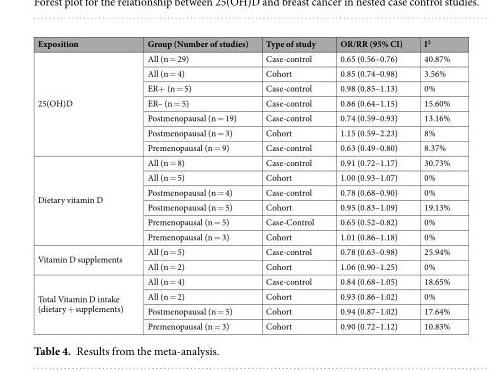table: (36, 36, 449, 331)
table column: (134, 36, 256, 331), (36, 36, 134, 331), (327, 36, 412, 331), (256, 36, 327, 331), (412, 36, 449, 331)
table column header: (36, 36, 449, 50)
table row: (36, 50, 449, 65), (36, 65, 449, 80), (36, 80, 449, 95), (36, 95, 449, 110), (36, 124, 449, 139), (36, 139, 449, 154), (36, 154, 449, 169), (36, 169, 449, 184), (36, 184, 449, 199), (36, 199, 449, 214), (36, 228, 449, 243), (36, 243, 449, 258), (36, 258, 449, 273), (36, 273, 449, 288), (36, 288, 449, 303), (36, 303, 449, 318), (36, 36, 449, 50), (36, 110, 449, 124), (36, 214, 449, 228), (36, 318, 449, 331)
table spanning cell: (36, 50, 134, 154), (36, 154, 134, 243), (36, 273, 134, 331), (36, 243, 134, 273)
